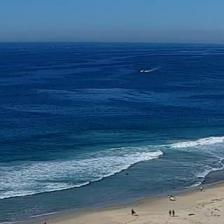surfer: (71, 151, 74, 153)
